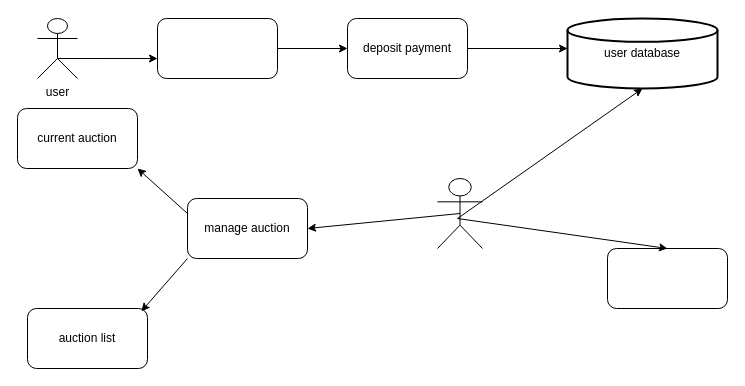
Image size: 745x386. Some labels were removed from this diagram. Here are the shapes that lost their labels. From the top down, the box of each, then its label:
(156, 18, 278, 78): register user
(436, 178, 482, 248): admin
(606, 248, 728, 308): allowed user
